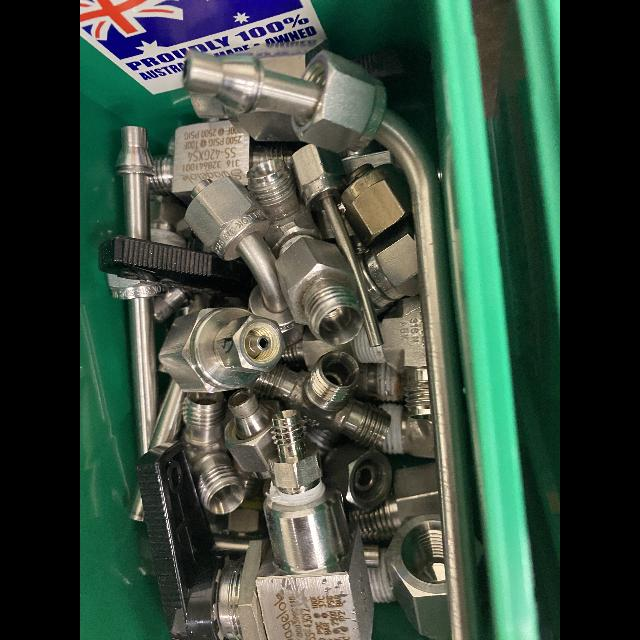Stainless Steel: (187, 50, 477, 637), (222, 483, 374, 640), (182, 177, 303, 344), (290, 145, 381, 345), (150, 95, 272, 229), (109, 273, 185, 456), (159, 309, 284, 394), (256, 358, 388, 437), (277, 236, 361, 347), (185, 398, 249, 515), (390, 515, 450, 636), (357, 462, 441, 540), (249, 160, 320, 248), (381, 299, 432, 415), (360, 230, 418, 313), (225, 395, 278, 478), (116, 127, 153, 239), (271, 411, 322, 488), (333, 446, 394, 509), (250, 46, 314, 76), (237, 114, 295, 140), (344, 151, 389, 167), (217, 538, 250, 551), (365, 548, 380, 564)
